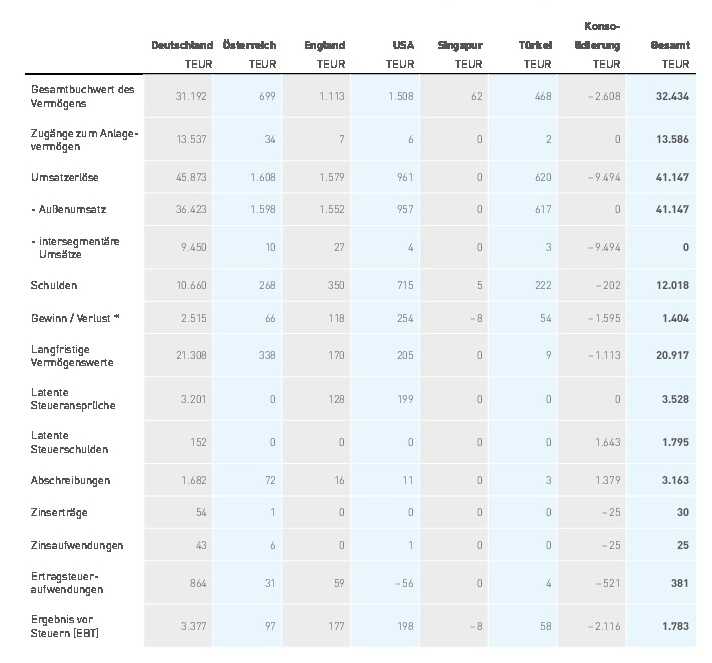table: (0, 0, 712, 663)
